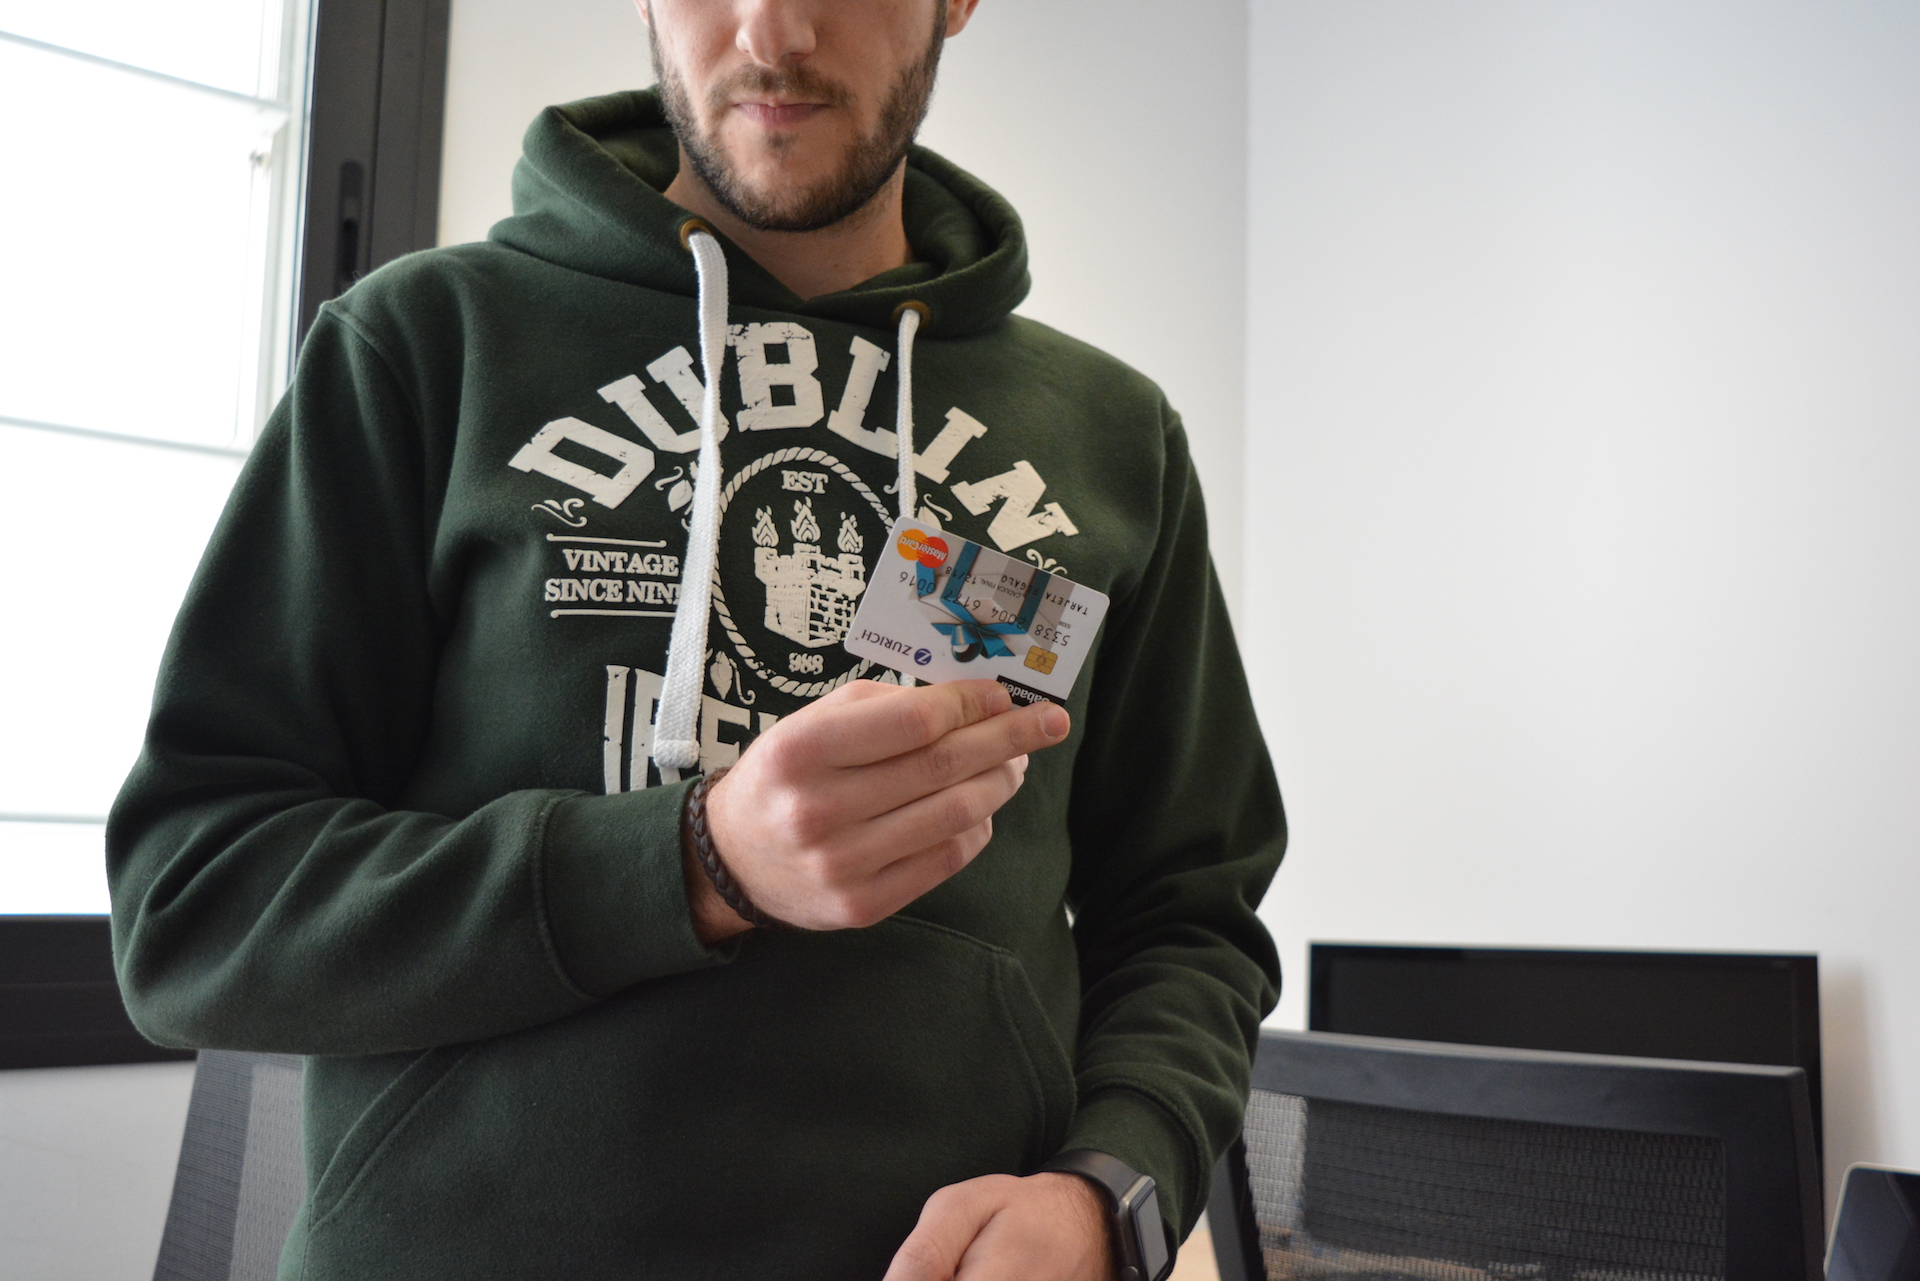tarjeta: (843, 515, 1112, 713)
